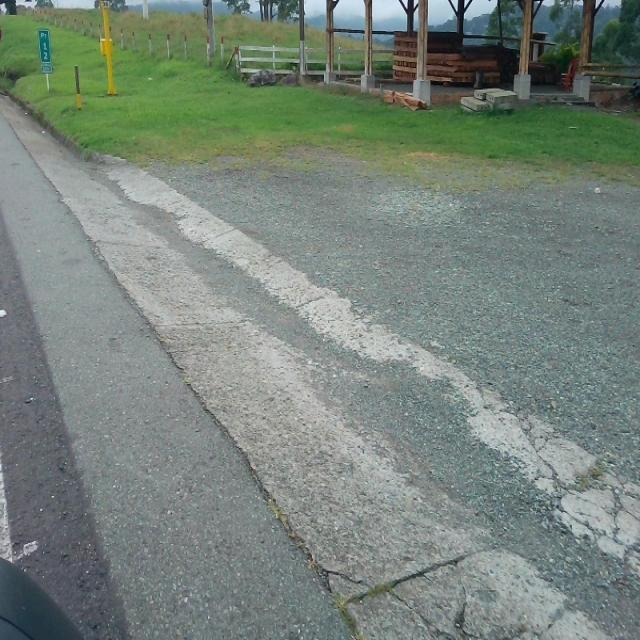DITCH: (2, 88, 638, 638)
